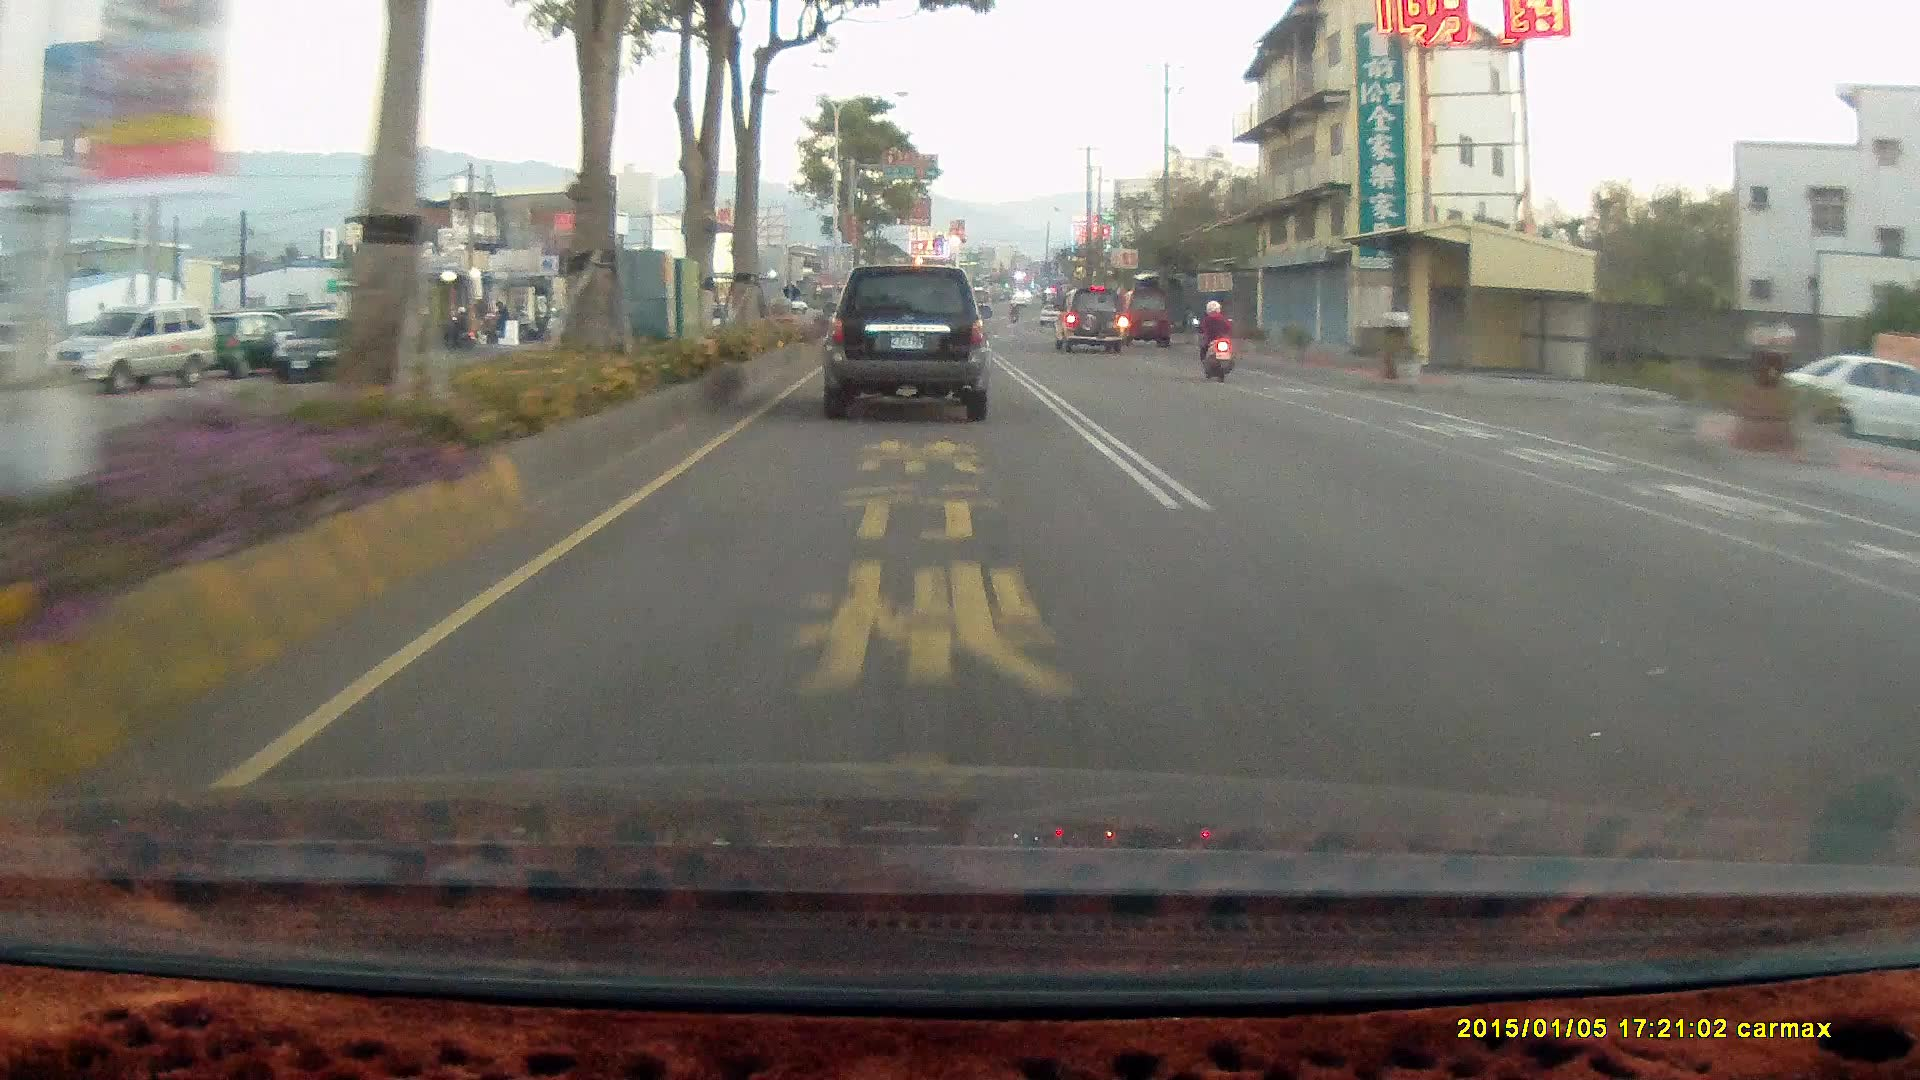rider: (1189, 294, 1242, 386), (1190, 292, 1236, 376), (433, 305, 482, 353)
vehicle: (820, 263, 991, 422), (828, 258, 998, 413), (49, 299, 218, 396), (43, 297, 215, 390), (1765, 353, 1920, 451), (262, 313, 391, 385), (269, 312, 396, 378), (1057, 282, 1135, 354), (1050, 284, 1126, 351), (1117, 288, 1169, 345)
